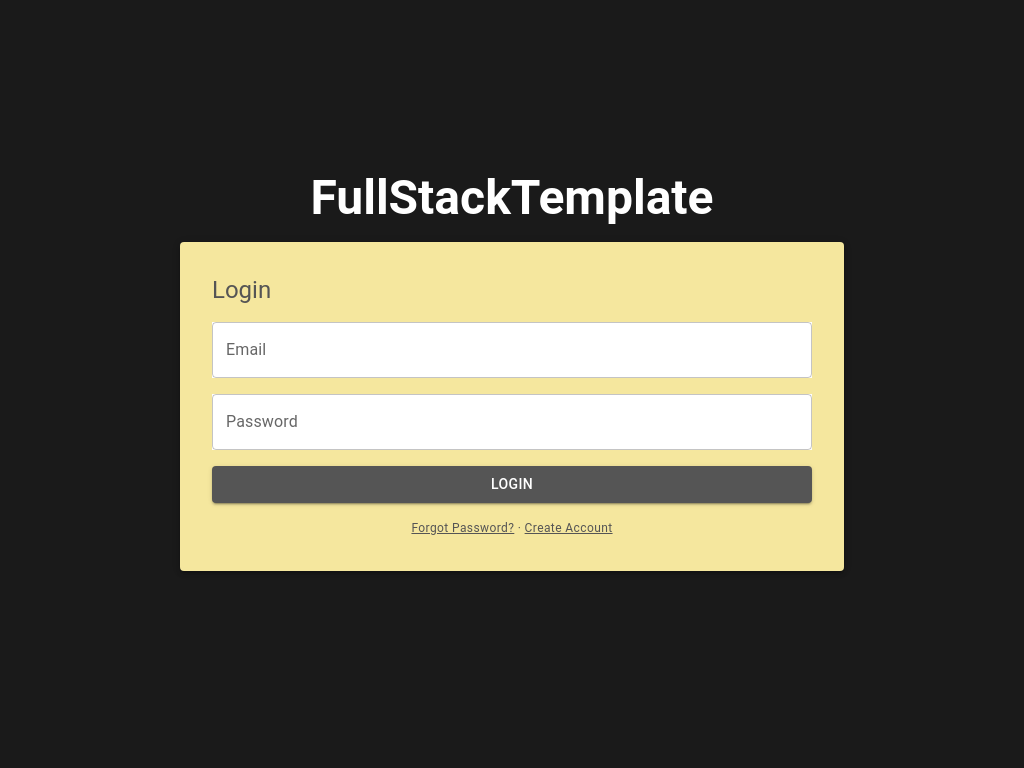
Test: real session route lifecycle › keeps the real login success message across the session transition
Type "reader@example.com" into the field labelled "Email". click: x=512, y=350
box: [212,322,812,378]
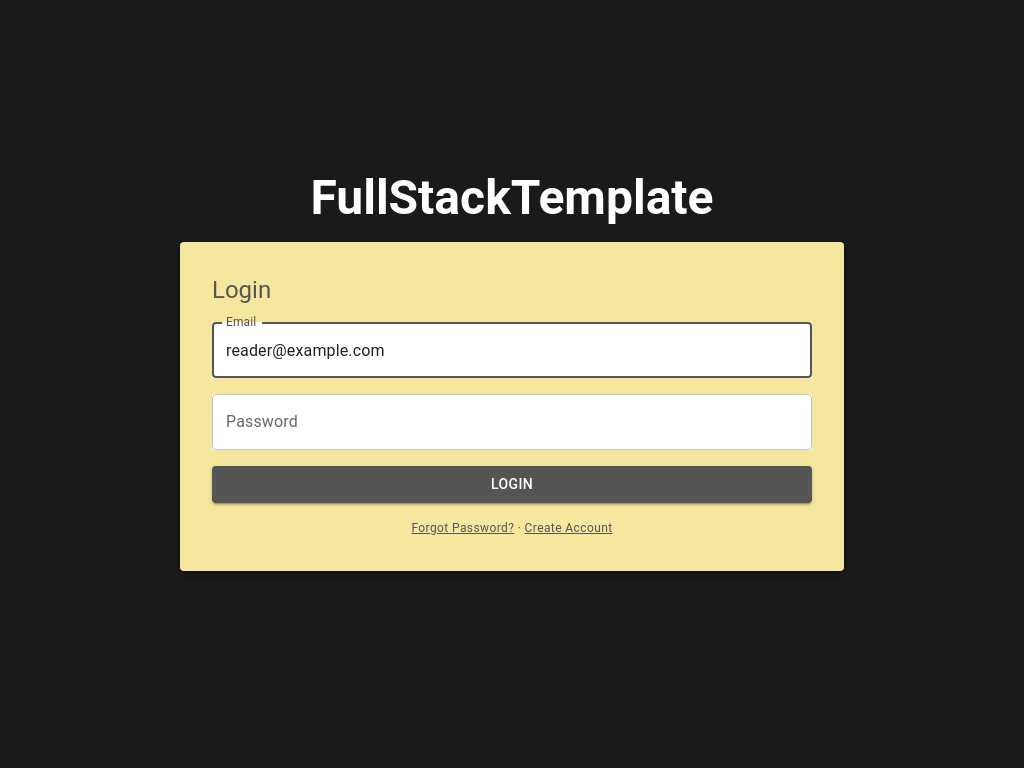
Type "password123" into the password field labelled "Password". click: x=512, y=422
box: [212,394,812,450]
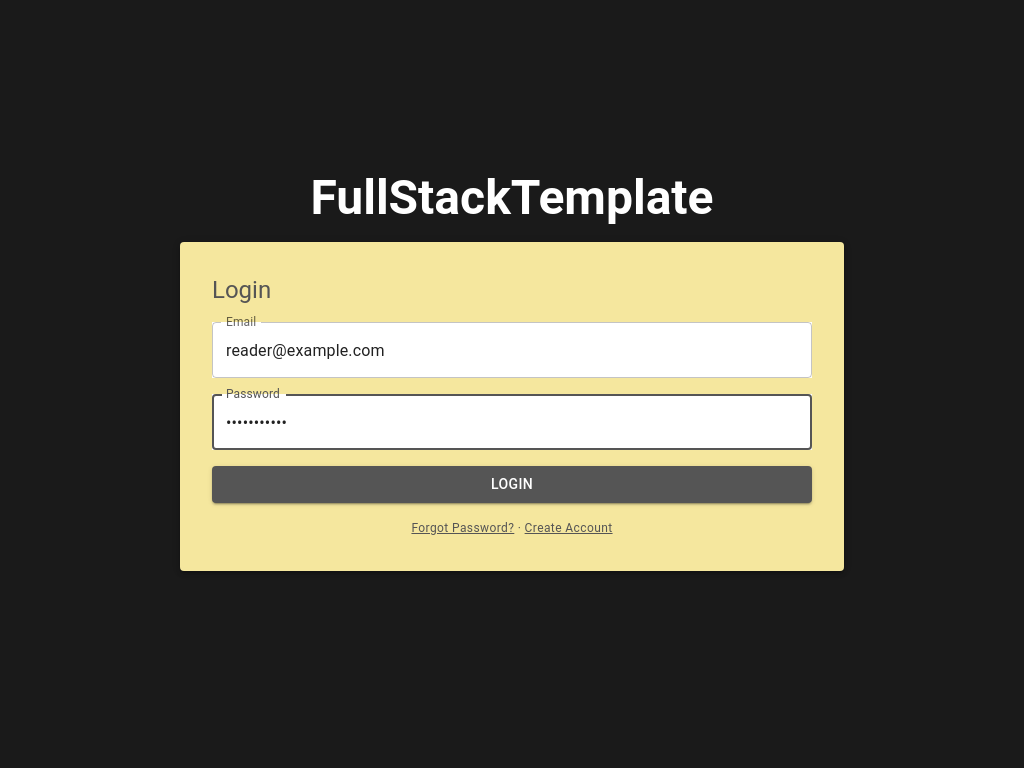
Click the button "Login". click: x=512, y=484
box: [212,466,812,503]
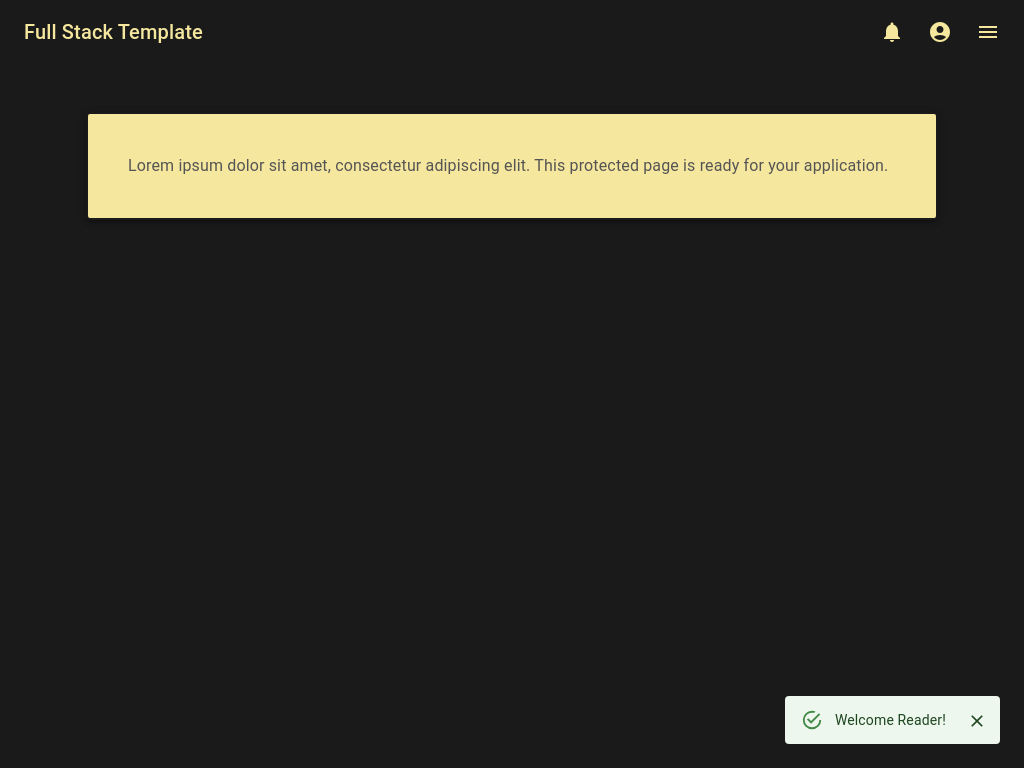
Expected: the text "Welcome Reader!" is shown, [835,712,946,728]
Expected: the button named "user profile" is shown, [916,8,964,56]
